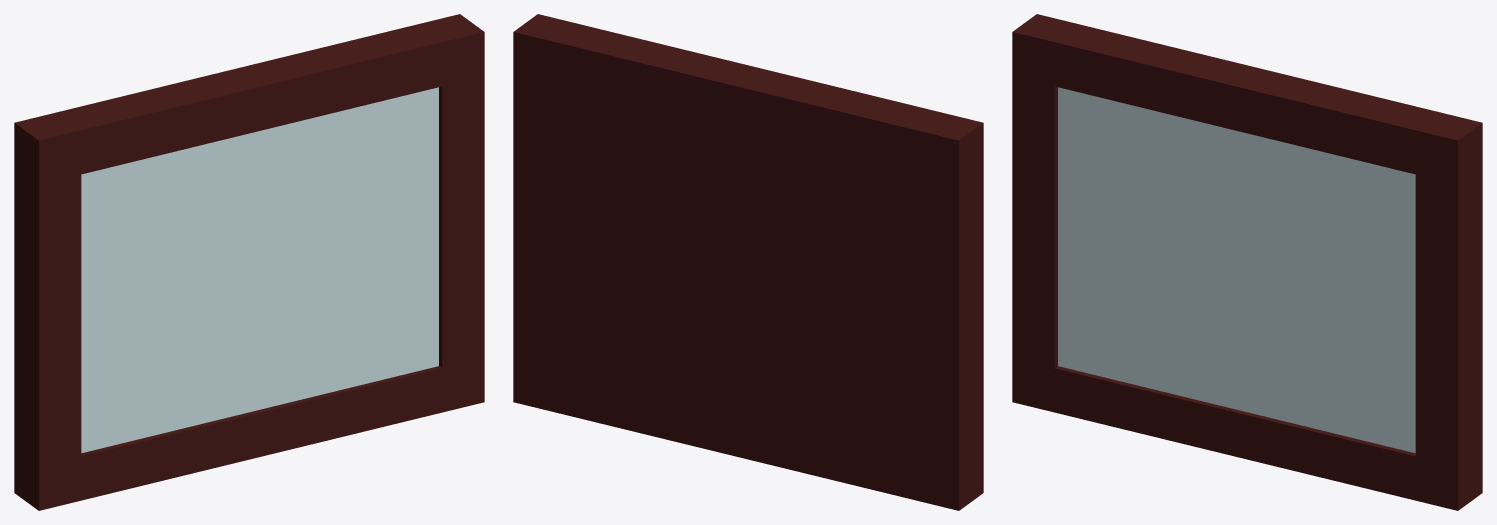
The model's file is Itr_Obj_Laptop_Screen_on_02.FBX.
3 views of the same model, side by side, from view 1: azimuth 30°, elevation 25°; view 2: azimuth 150°, elevation 25°; view 3: azimuth 330°, elevation 25° (orthographic).
Visible parts, largest first — view 1: Itr_Obj_Laptop_Screen_on_02; view 2: Itr_Obj_Laptop_Screen_on_02; view 3: Itr_Obj_Laptop_Screen_on_02.
Part boxes in pixels (x1=…): Itr_Obj_Laptop_Screen_on_02: x1=14, y1=14, x2=484, y2=510; Itr_Obj_Laptop_Screen_on_02: x1=513, y1=14, x2=983, y2=510; Itr_Obj_Laptop_Screen_on_02: x1=1012, y1=14, x2=1482, y2=510.
Bounding box in the file's own units: 29.1 × 23.12 × 2.77.
